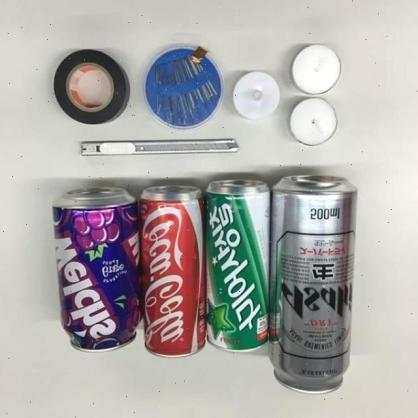can: (271, 174, 358, 397), (54, 193, 140, 354), (137, 186, 205, 359), (203, 184, 272, 354)
